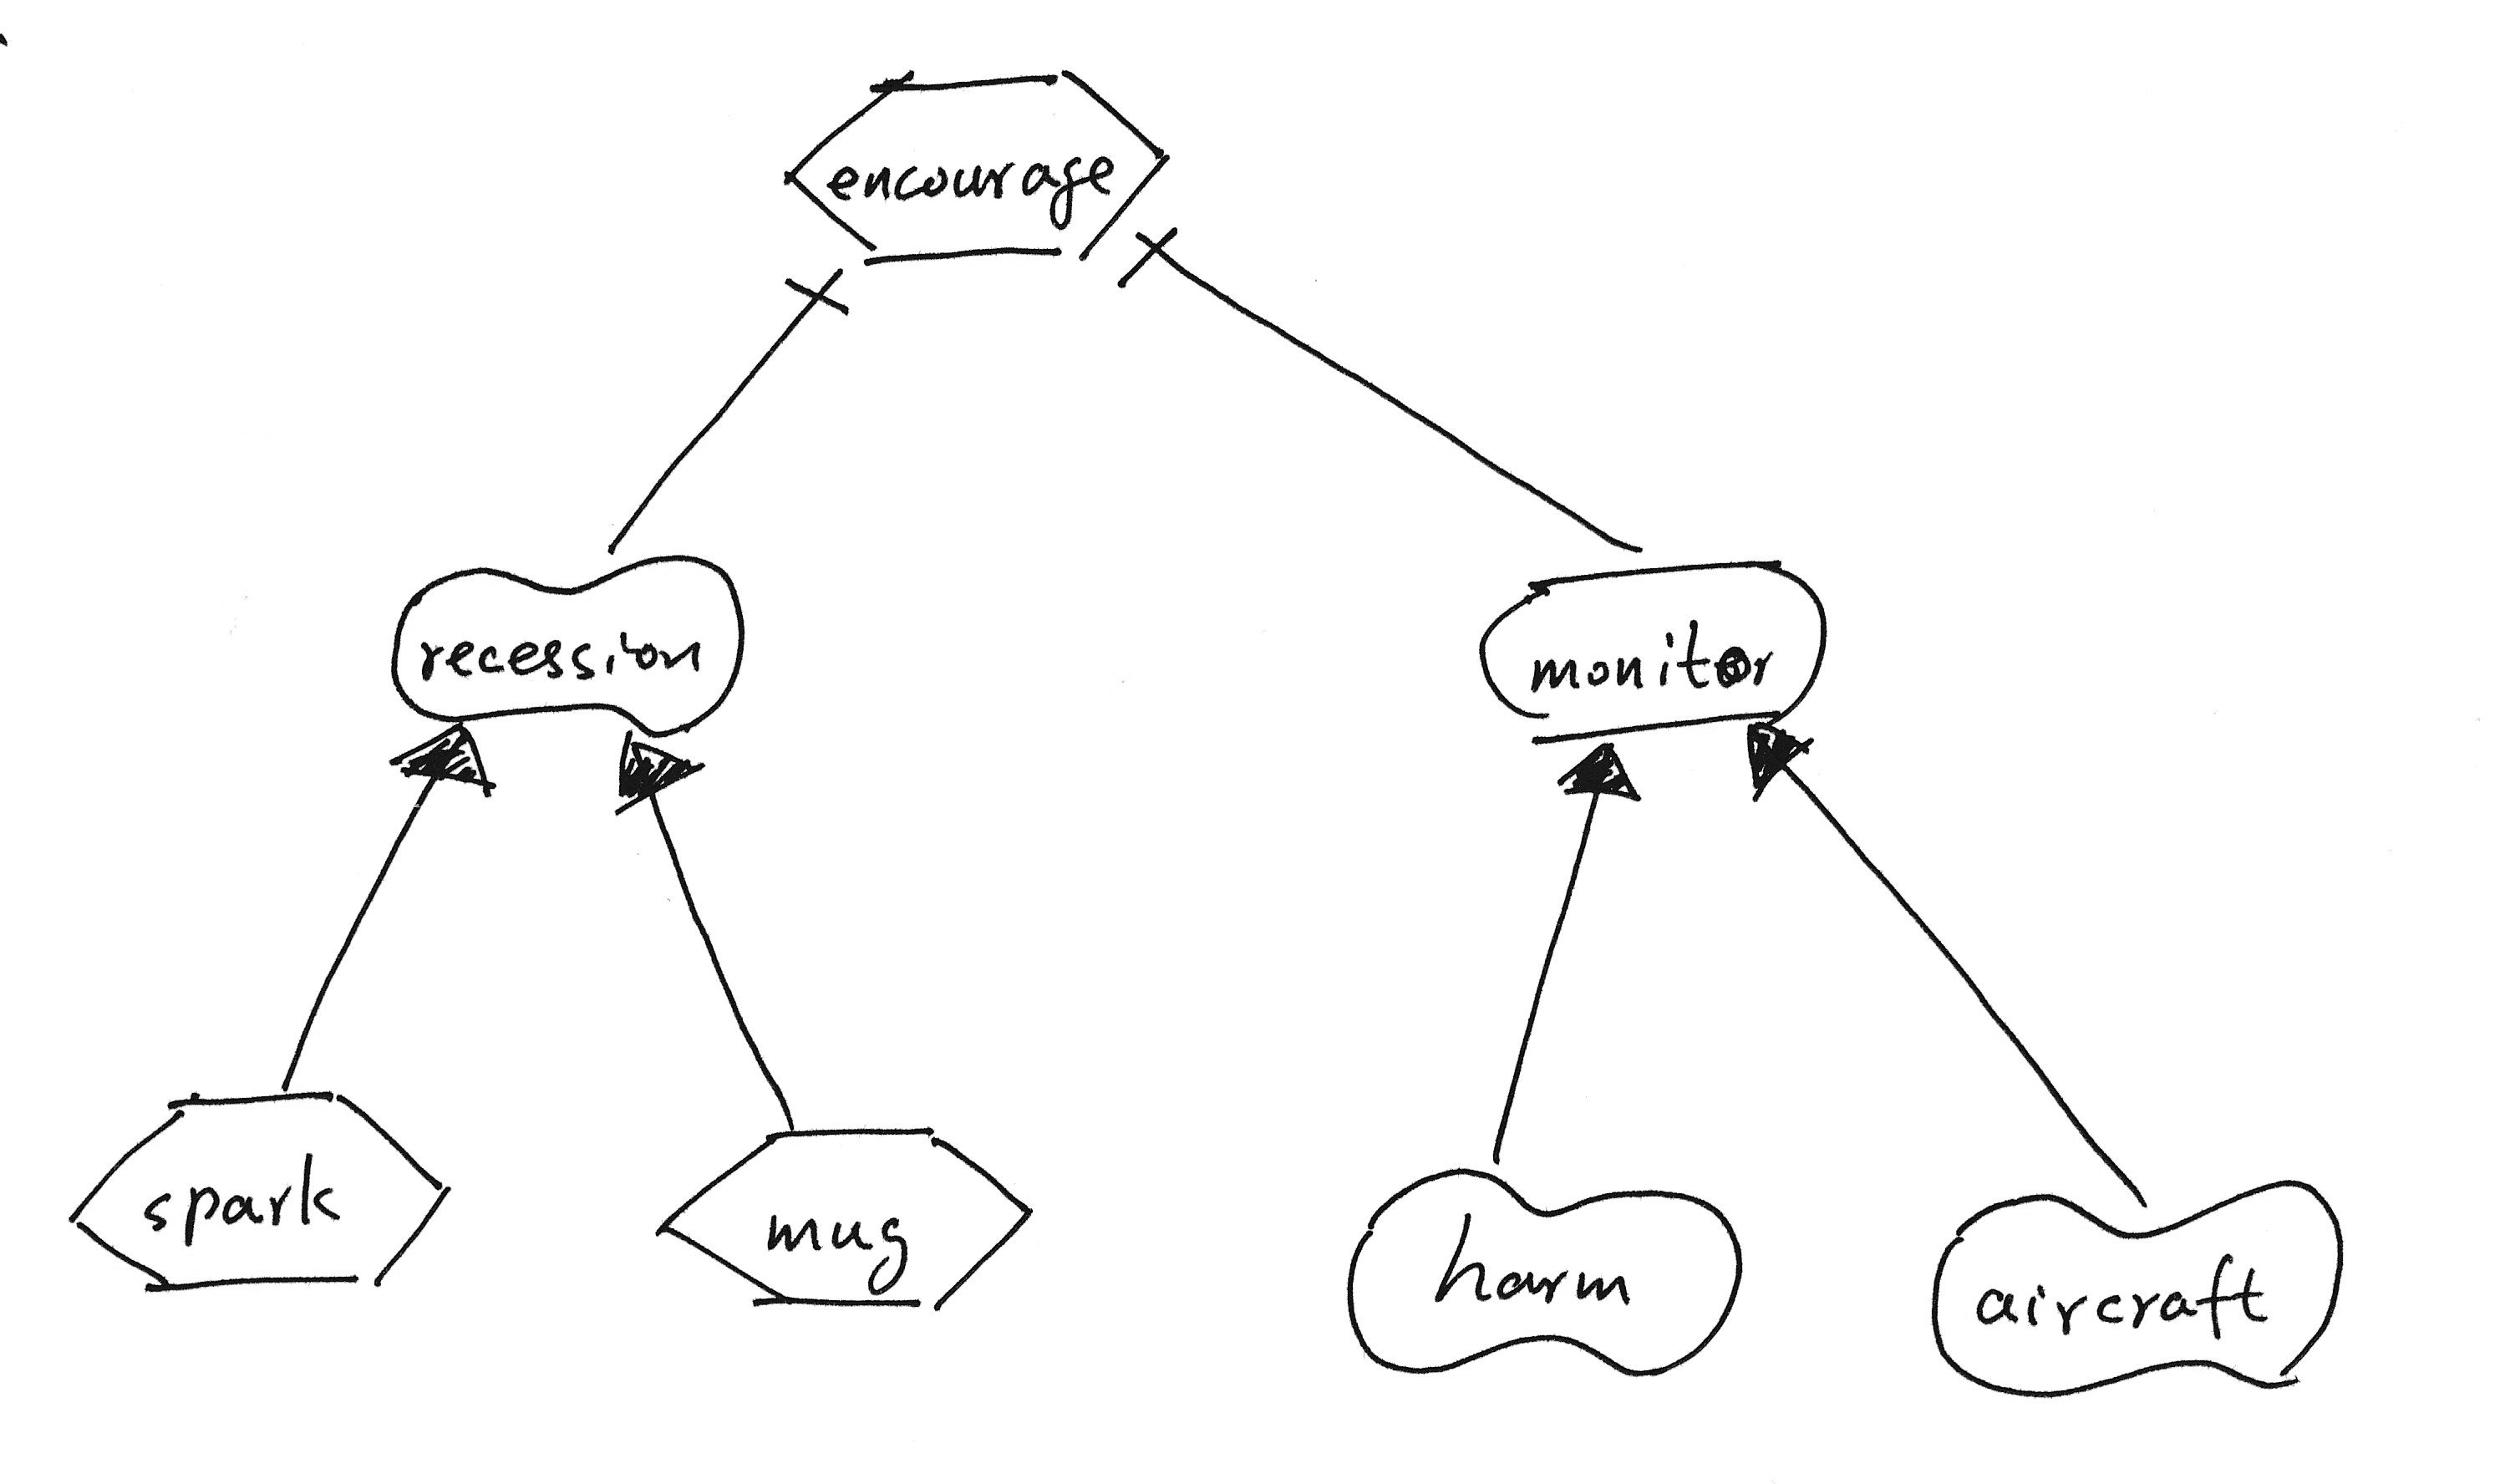and: (1098, 208, 1201, 307), (777, 256, 860, 343)
goal: (1466, 541, 1851, 756)
or: (378, 703, 514, 802), (1534, 730, 1663, 821), (593, 721, 712, 820), (1730, 707, 1831, 800)
quality: (1911, 1162, 2356, 1408), (1328, 1154, 1759, 1389), (374, 542, 759, 744)
task: (53, 1074, 464, 1314), (766, 58, 1190, 281), (632, 1109, 1051, 1323)
